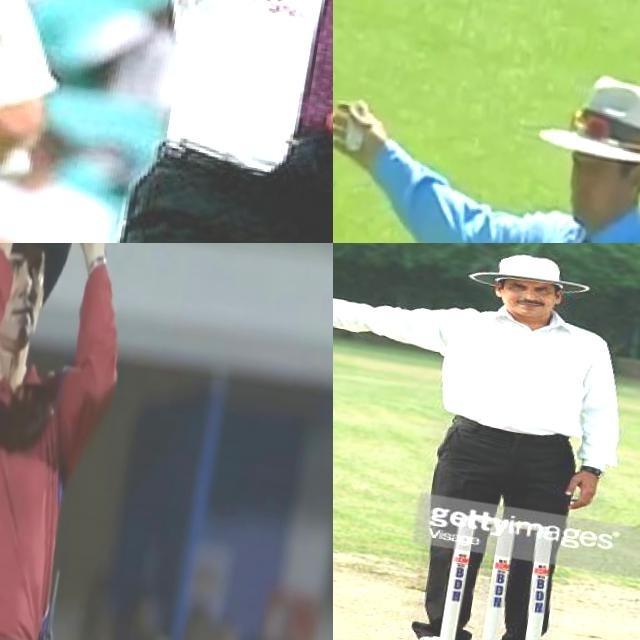No_Ball: (333, 243, 640, 640)
Out: (60, 0, 333, 243)
Six: (0, 243, 165, 640)
Wide: (333, 27, 640, 243)
